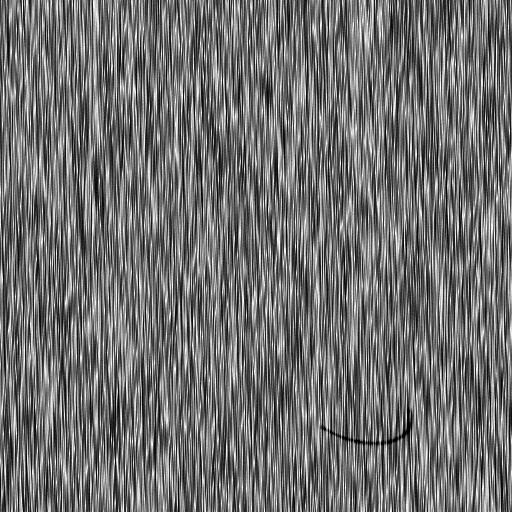DefectTypeC: (320, 409, 411, 445)
